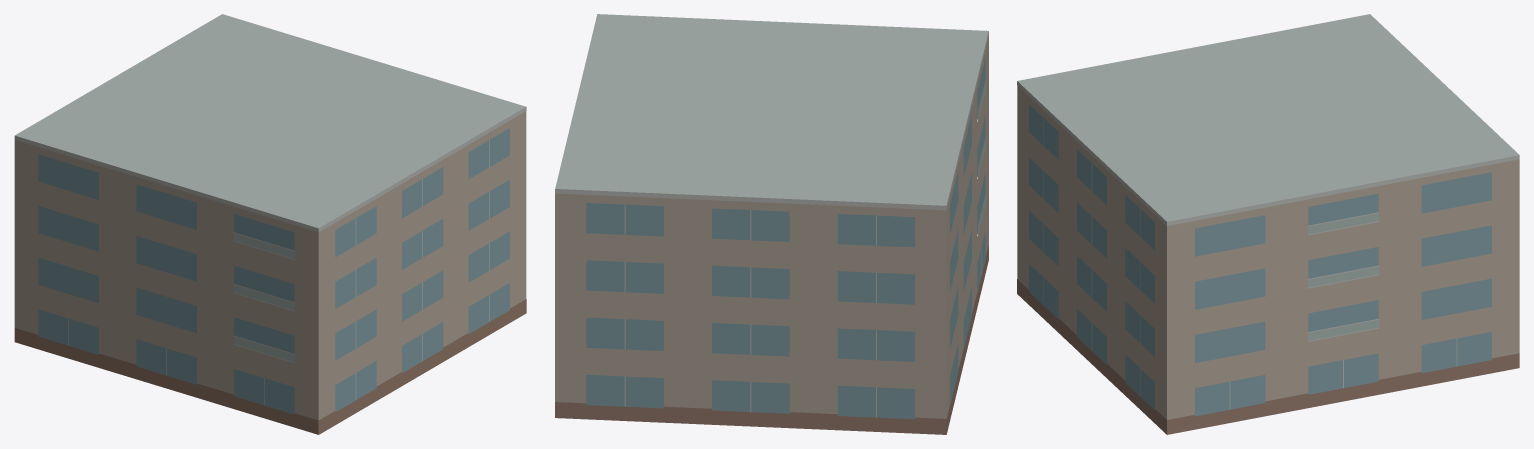
Rendered from residential-006e1e61-15c4-4c02-a691-098803032a40.glb.
The picture shows the model from 3 angles, left to right: view 1: azimuth 30°, elevation 25°; view 2: azimuth 150°, elevation 25°; view 3: azimuth 270°, elevation 25°; orthographic projection. The views are drawn at different scales.
Parts seen in each view (by area): view 1: residential-006e1e61-15c4-4c02-a691-098803032a40.tmp; view 2: residential-006e1e61-15c4-4c02-a691-098803032a40.tmp; view 3: residential-006e1e61-15c4-4c02-a691-098803032a40.tmp.
Boxes of the visible parts, bbox=[...] form: residential-006e1e61-15c4-4c02-a691-098803032a40.tmp: bbox=[14, 14, 526, 434]; residential-006e1e61-15c4-4c02-a691-098803032a40.tmp: bbox=[555, 14, 988, 434]; residential-006e1e61-15c4-4c02-a691-098803032a40.tmp: bbox=[1017, 14, 1519, 434].
Bounding box in the file's own units: 25.56 × 12.2 × 26.1.
